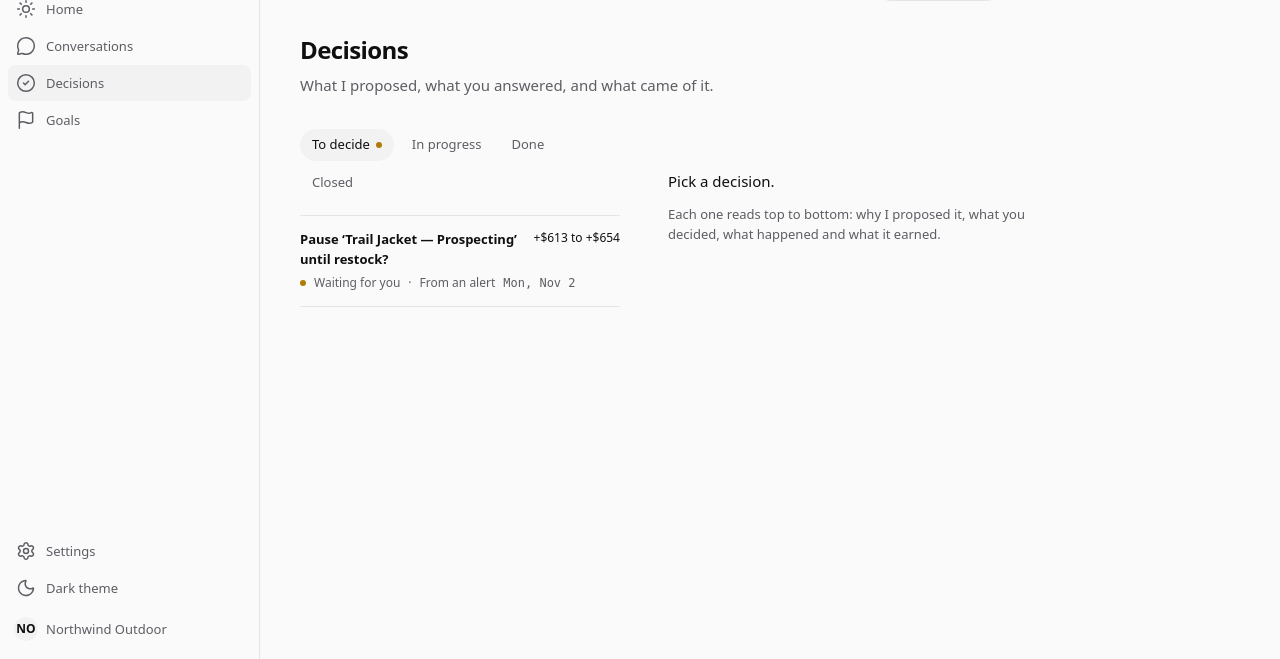
Test: the Decisions page › opens a decision at its own address: why, then the approval card
Click the link "until restock?". click: (408,239)
box: [288,216,632,306]
(page scrolled)
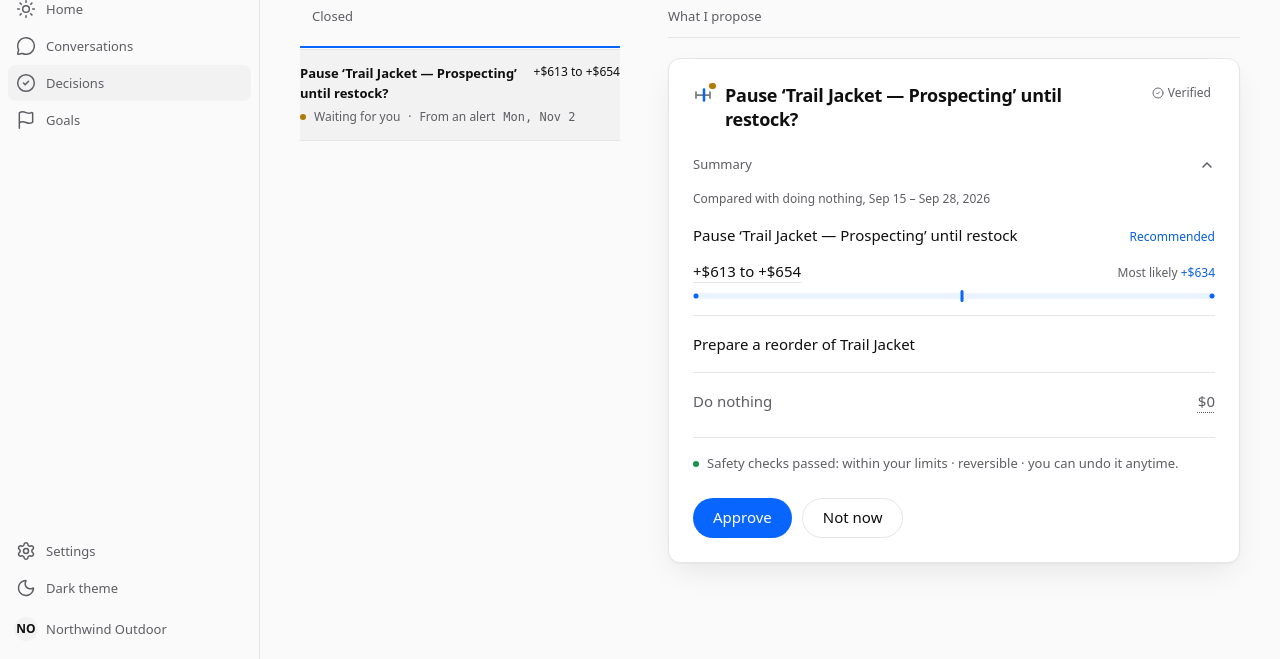
Result: the button "Approve" is shown at [693,498,792,538]
